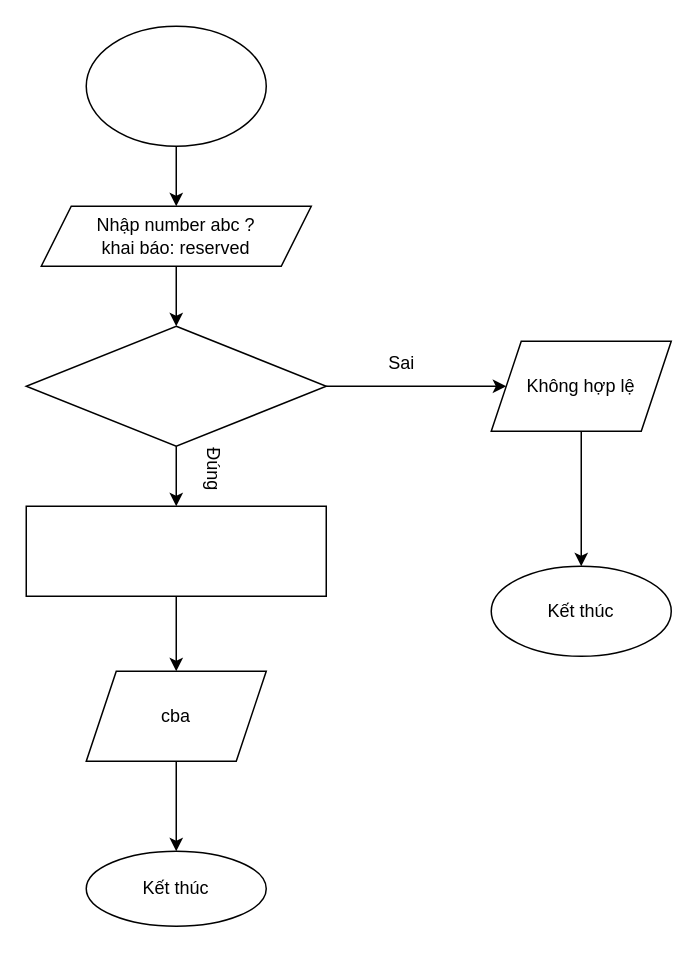
This 698x953 diagram has some shape labels left out. Each missing label, with the box of its shape:
Bắt đầu: (85, 25, 266, 146)
number > 99 or number < 1000: (25, 325, 326, 446)
reserved=c*100+b*10+a: (25, 505, 326, 596)
